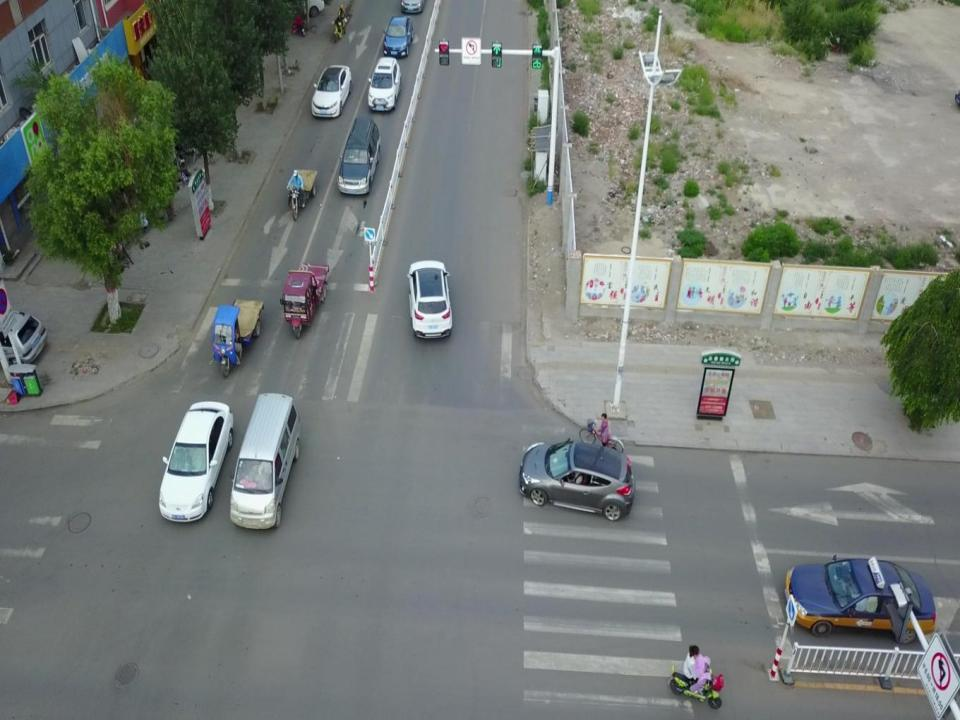car: (784, 553, 936, 645), (519, 437, 635, 521), (158, 400, 234, 522), (407, 260, 453, 340), (0, 307, 47, 367), (311, 65, 352, 119), (367, 56, 402, 112), (115, 182, 148, 233), (382, 15, 414, 58)
van: (229, 391, 301, 531), (338, 118, 381, 194)
